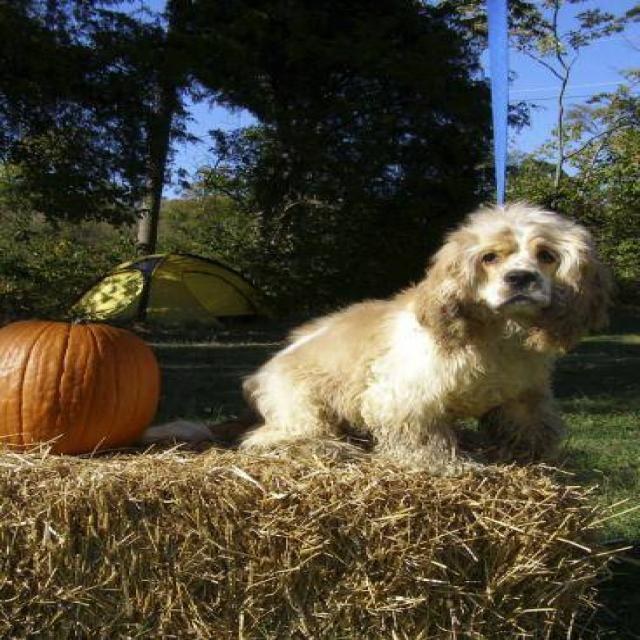dogs: (226, 191, 602, 492)
